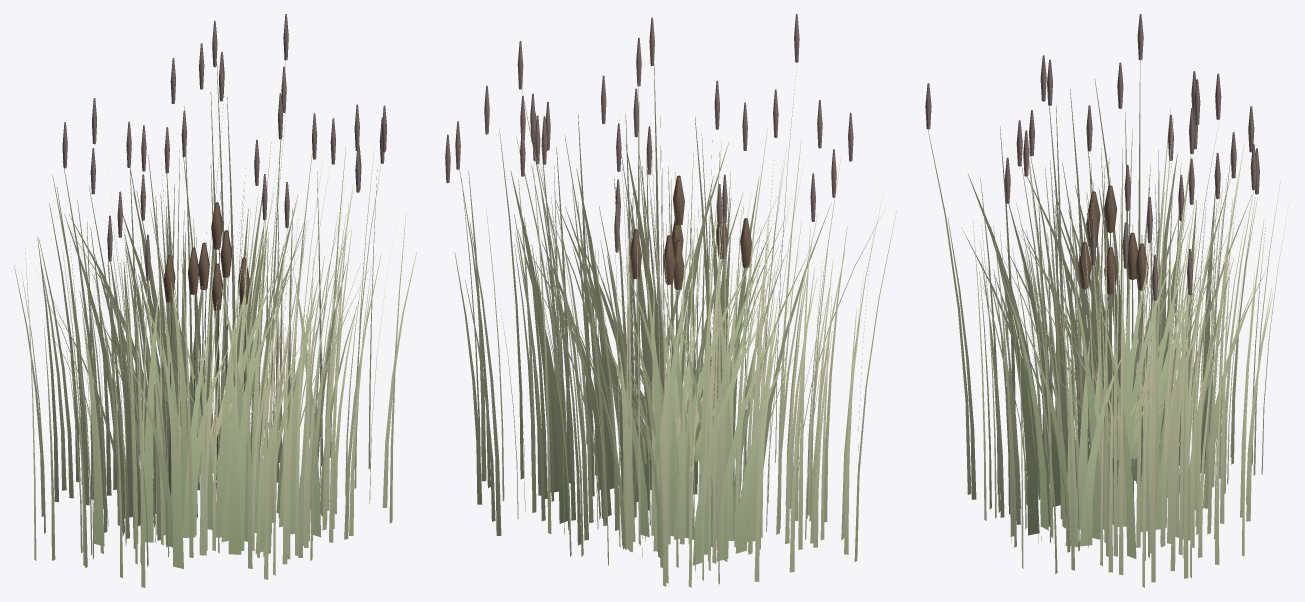
File: fdx-reeds.glb
The picture shows the model from 3 angles, left to right: view 1: azimuth 30°, elevation 25°; view 2: azimuth 150°, elevation 25°; view 3: azimuth 270°, elevation 25°; orthographic projection. The views are drawn at different scales.
Parts seen in each view (by area): view 1: fdx_reeds_c_lod0, fdx_reeds_b_lod0, fdx_reeds_a_lod0, fdx_grass_c_lod0, fdx_grass_b_lod0; view 2: fdx_reeds_c_lod0, fdx_reeds_b_lod0, fdx_reeds_a_lod0, fdx_grass_c_lod0, fdx_grass_a_lod0, fdx_grass_b_lod0; view 3: fdx_reeds_c_lod0, fdx_reeds_b_lod0, fdx_reeds_a_lod0, fdx_grass_c_lod0, fdx_grass_b_lod0.
Boxes of the visible parts, left/top/right/bottom form: fdx_reeds_c_lod0: left=14, top=104, right=416, bottom=587; fdx_reeds_b_lod0: left=38, top=14, right=392, bottom=568; fdx_reeds_a_lod0: left=64, top=43, right=356, bottom=562; fdx_grass_c_lod0: left=158, top=354, right=263, bottom=472; fdx_grass_b_lod0: left=149, top=336, right=261, bottom=472; fdx_reeds_c_lod0: left=445, top=14, right=896, bottom=587; fdx_reeds_b_lod0: left=484, top=41, right=860, bottom=580; fdx_reeds_a_lod0: left=515, top=17, right=836, bottom=561; fdx_grass_c_lod0: left=612, top=319, right=751, bottom=464; fdx_grass_a_lod0: left=603, top=347, right=722, bottom=467; fdx_grass_b_lod0: left=622, top=340, right=738, bottom=461; fdx_reeds_c_lod0: left=925, top=59, right=1289, bottom=587; fdx_reeds_b_lod0: left=979, top=55, right=1272, bottom=574; fdx_reeds_a_lod0: left=987, top=14, right=1256, bottom=557; fdx_grass_c_lod0: left=1045, top=330, right=1173, bottom=460; fdx_grass_b_lod0: left=1051, top=321, right=1181, bottom=458.
Size of what is drawn, in the model's own units: 2.34 by 2.58 by 1.9.
